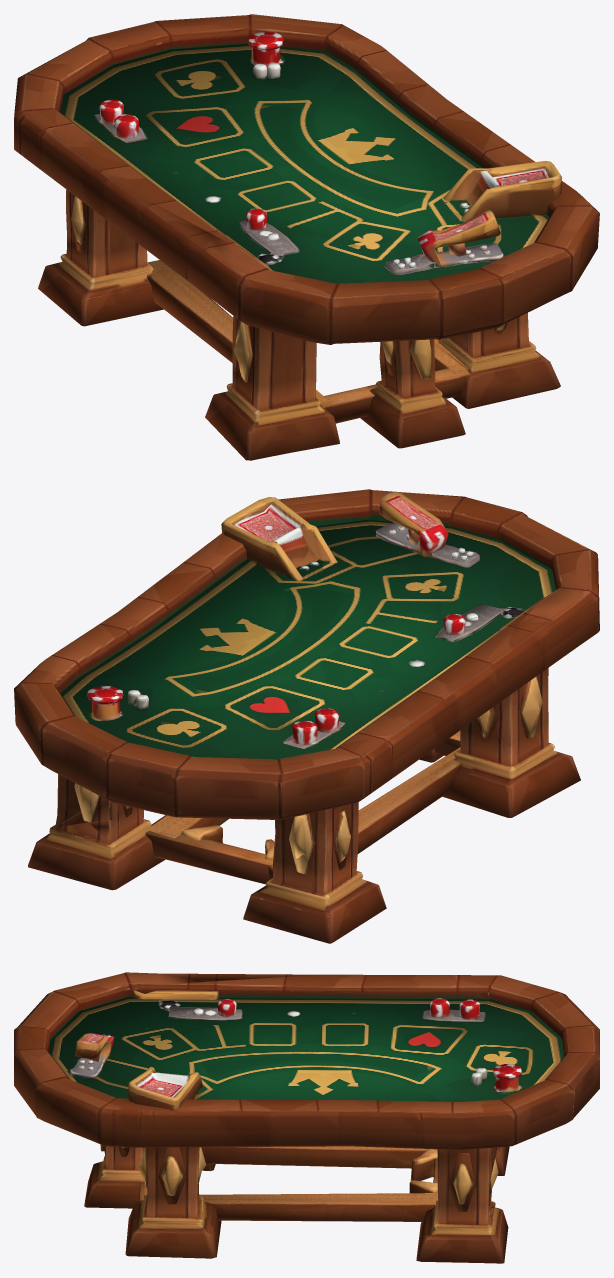
Rendered from Meshy_AI_model.fbx.
3 renders of one model, top to bottom at view 1: azimuth 30°, elevation 25°; view 2: azimuth 150°, elevation 25°; view 3: azimuth 270°, elevation 25°, orthographic. The views are drawn at different scales.
Parts seen in each view (by area): view 1: Mesh_0; view 2: Mesh_0; view 3: Mesh_0.
Part boxes in pixels (box(x1,y1,x2,y2)): Mesh_0: box(14, 14, 599, 460); Mesh_0: box(14, 489, 599, 943); Mesh_0: box(14, 972, 599, 1263).
Size of the model in its own units: 58.05 by 33.57 by 100.
1 material, 1 textured.
